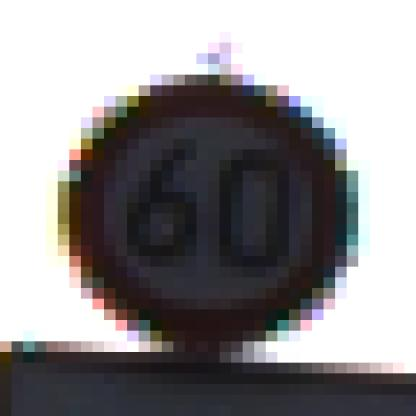Speed Limit 60: (73, 79, 346, 340)
